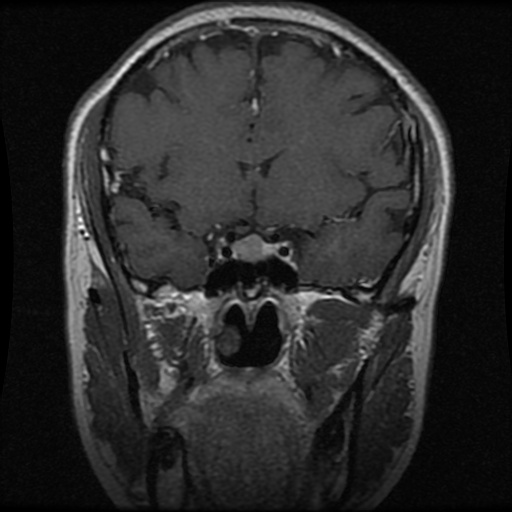pituitary: (229, 235, 268, 260)
